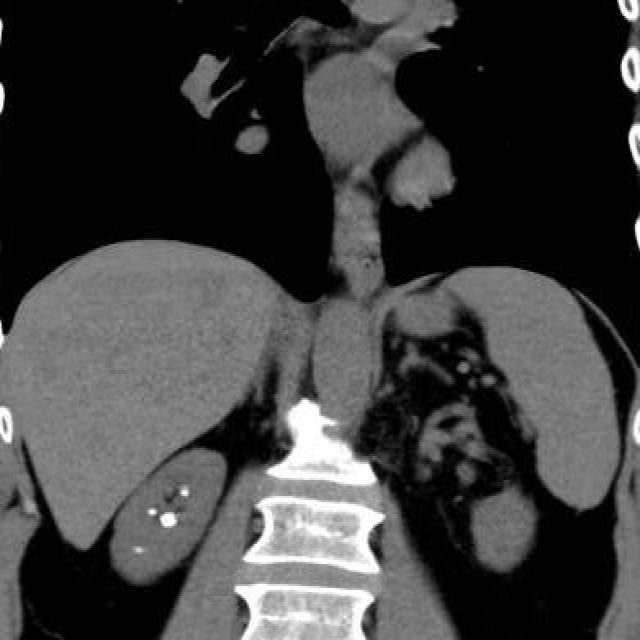Tas_Var: (157, 512, 182, 528), (131, 543, 147, 555), (144, 507, 160, 517), (178, 488, 190, 500)
